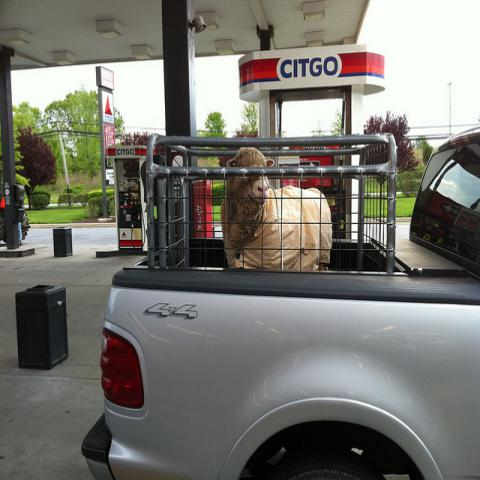truck: (84, 133, 479, 475)
